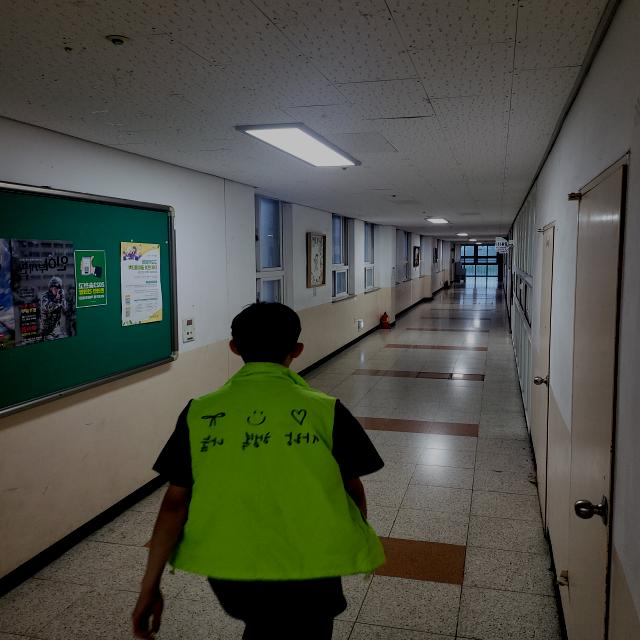weston_spy: (148, 346, 358, 640)
